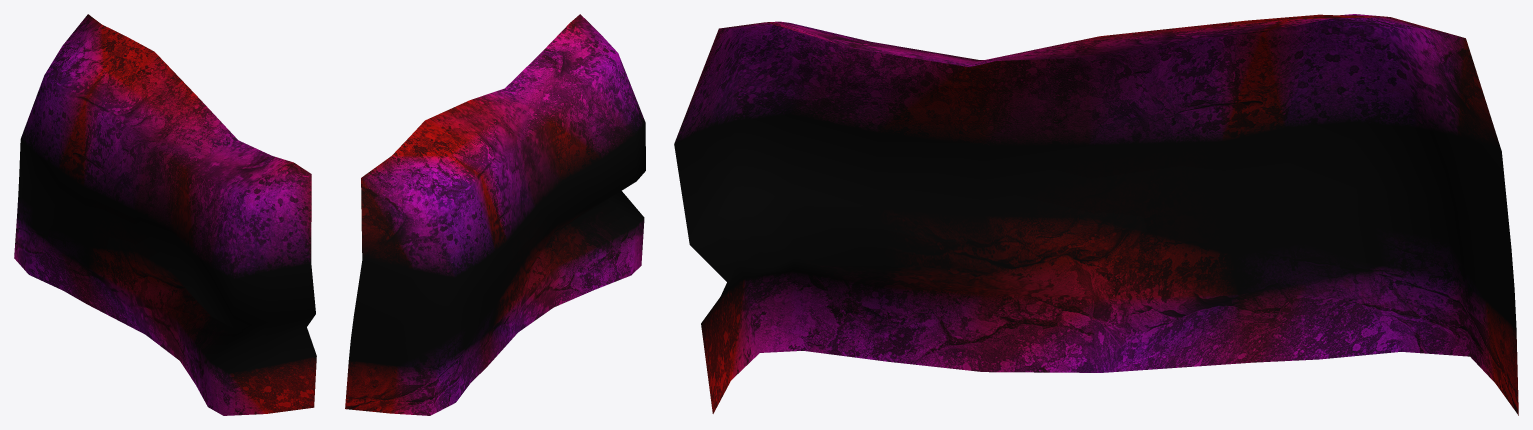
The model's file is RockCliffLarge2.glb.
3 views of the same model, side by side, from view 1: azimuth 30°, elevation 25°; view 2: azimuth 150°, elevation 25°; view 3: azimuth 270°, elevation 25° (orthographic). The views are drawn at different scales.
Visible parts, largest first — view 1: RockCliffLarge2; view 2: RockCliffLarge2; view 3: RockCliffLarge2.
Part boxes in pixels (bbox=[...]): RockCliffLarge2: bbox=[14, 14, 316, 415]; RockCliffLarge2: bbox=[345, 14, 645, 415]; RockCliffLarge2: bbox=[674, 14, 1518, 415].
Size of the model in its own units: 3.53 by 9.16 by 17.7.
Materials: 1 (1 with a texture image).
